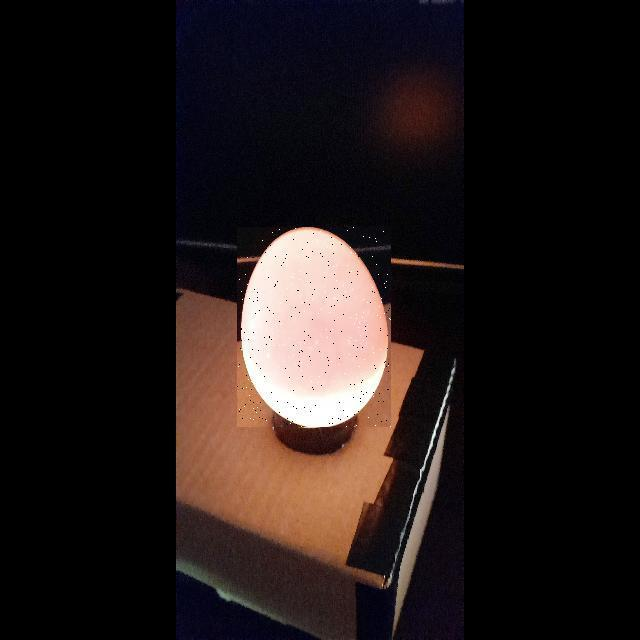Inedible: (238, 221, 394, 436)
